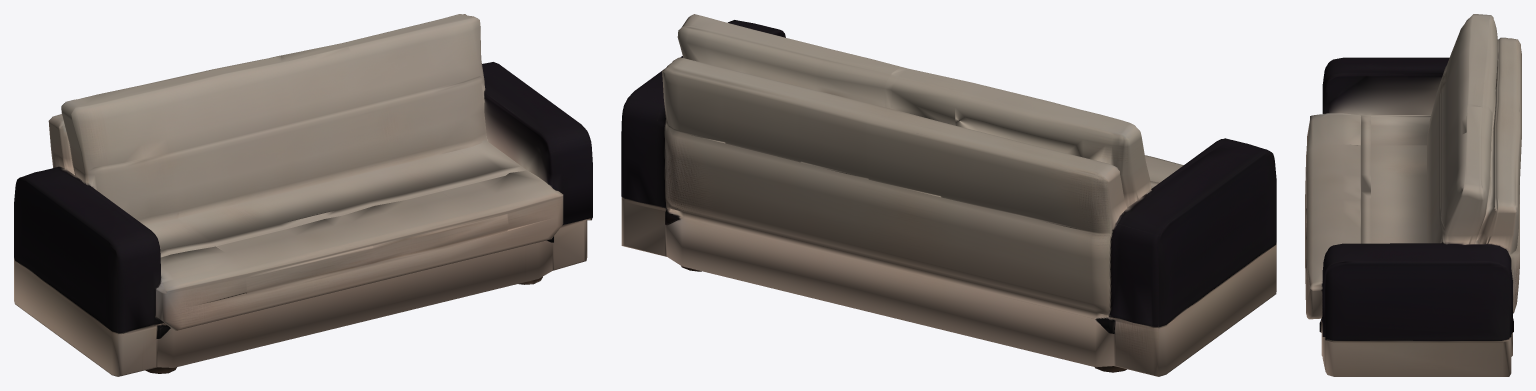
The model's file is Koltuk001.fbx.
3 renders of one model, left to right at view 1: azimuth 30°, elevation 25°; view 2: azimuth 150°, elevation 25°; view 3: azimuth 270°, elevation 25°, orthographic. The views are drawn at different scales.
Parts seen in each view (by area): view 1: texture_pbr_v128; view 2: texture_pbr_v128; view 3: texture_pbr_v128.
Boxes of the visible parts, x1,y1,x2,y2 form: texture_pbr_v128: [14, 14, 592, 376]; texture_pbr_v128: [621, 14, 1276, 376]; texture_pbr_v128: [1305, 14, 1521, 376].
Bounding box in the file's own units: 107 × 44.26 × 46.77.
Materials: 1 (1 with a texture image).
